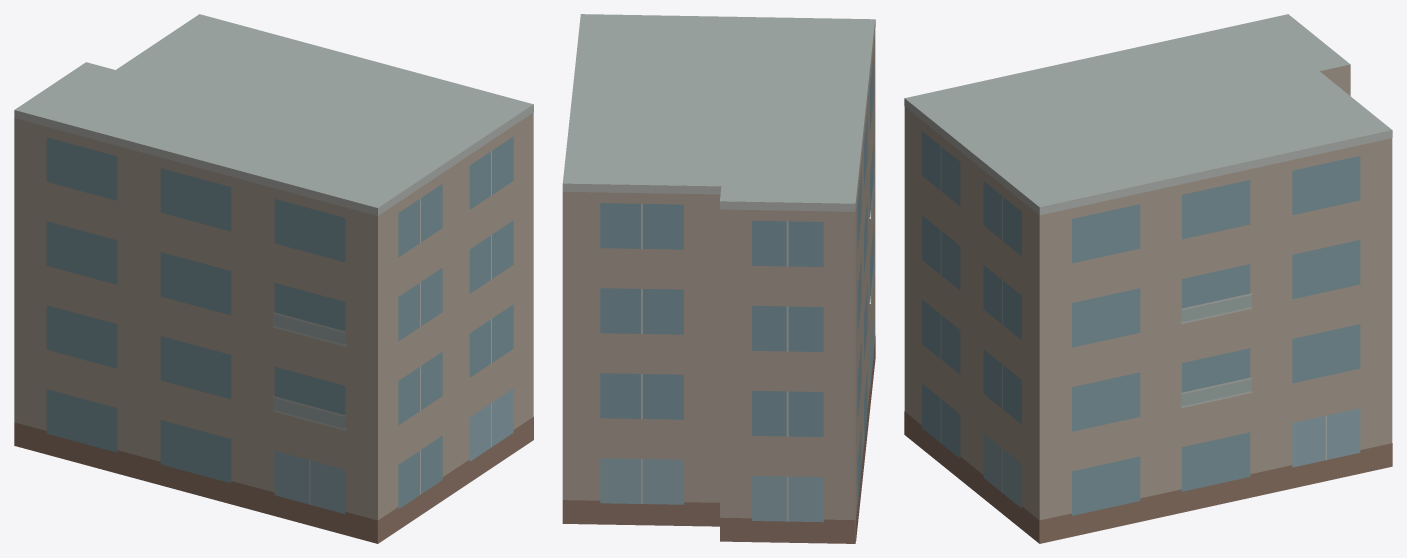
The model's file is survey-upis-32702237.glb.
3 views of the same model, side by side, from view 1: azimuth 30°, elevation 25°; view 2: azimuth 150°, elevation 25°; view 3: azimuth 270°, elevation 25° (orthographic).
Parts seen in each view (by area): view 1: survey-upis-32702237.tmp; view 2: survey-upis-32702237.tmp; view 3: survey-upis-32702237.tmp.
Part boxes in pixels (<box>): survey-upis-32702237.tmp: <box>14,14,533,543</box>; survey-upis-32702237.tmp: <box>562,14,875,543</box>; survey-upis-32702237.tmp: <box>904,14,1392,543</box>.
Bounding box in the file's own units: 12.64 × 10.25 × 13.48.
